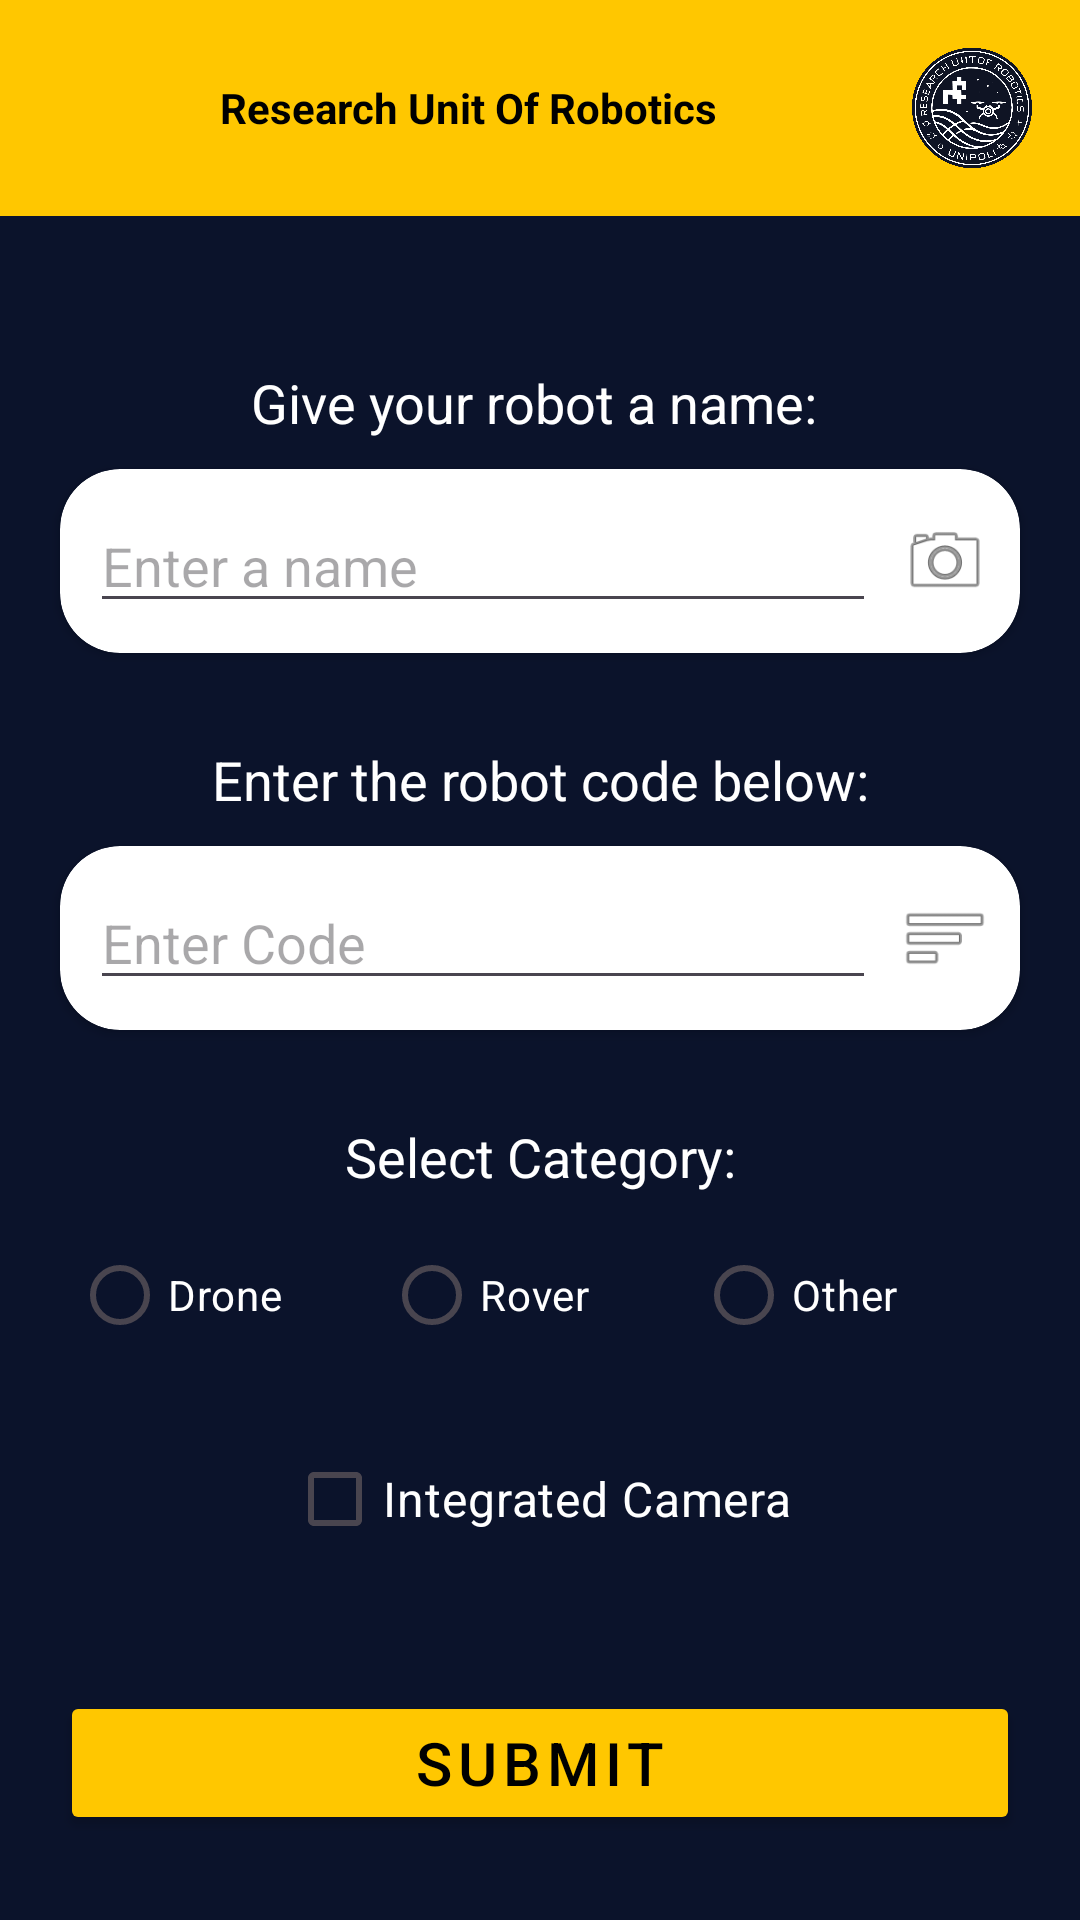

Locate icon controls on the screen. Image size 1080*1920, boxes as (x1, y1, x2, y2).
camera: (910, 532, 980, 587)
sort by size: (906, 913, 984, 964)
